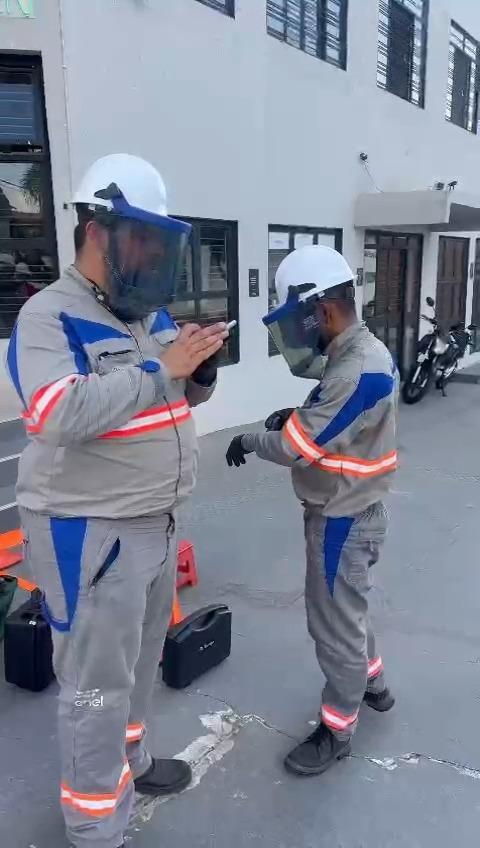Face_Shield: (93, 192, 197, 309), (253, 296, 334, 378)
Helmet: (67, 148, 203, 312), (269, 240, 366, 347)
No gloves: (165, 318, 238, 392), (215, 432, 251, 475), (267, 404, 296, 426)
